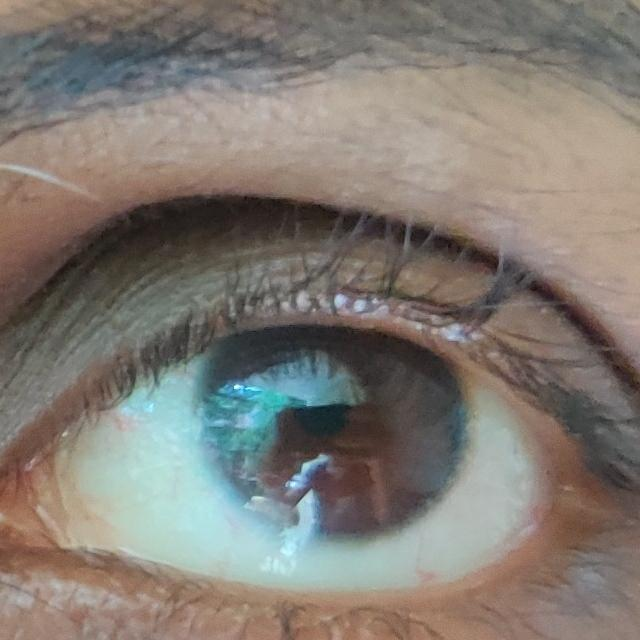eye: (54, 326, 560, 599)
iris: (182, 331, 482, 535)
